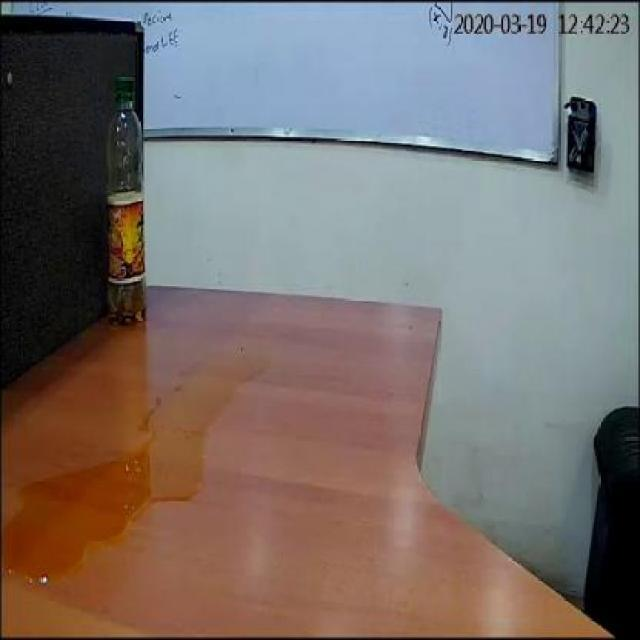spill: (4, 344, 267, 584)
